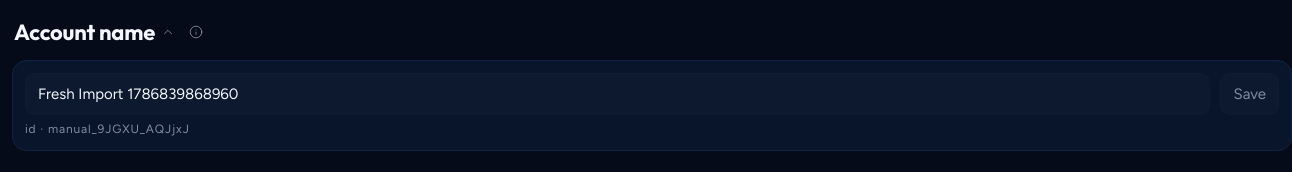
Test case: account rename › cannot save until the name actually changes
Expected: the button with test id "button-save-account-name" is disabled, [1220,73,1279,115]
Replace the text in the field with test id "input-account-name" with "AAFE". click: (618, 94)
box: [25,73,1210,115]
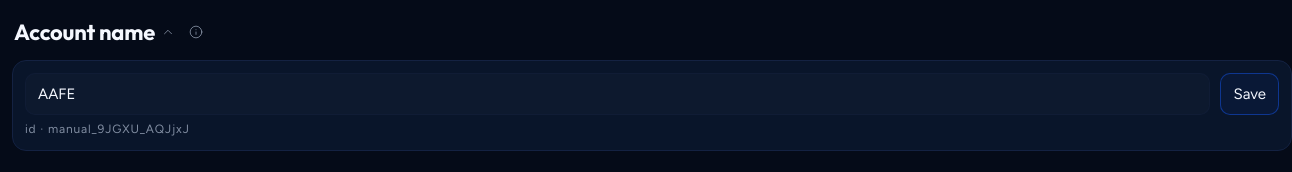
Expected: the button with test id "button-save-account-name" is enabled, [1220,73,1279,115]
